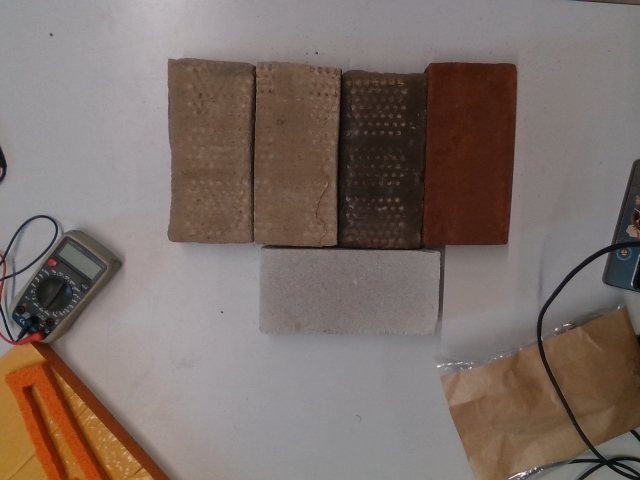brick: (251, 65, 341, 244), (259, 248, 438, 336), (166, 59, 252, 239), (339, 73, 428, 246), (426, 66, 512, 243)
